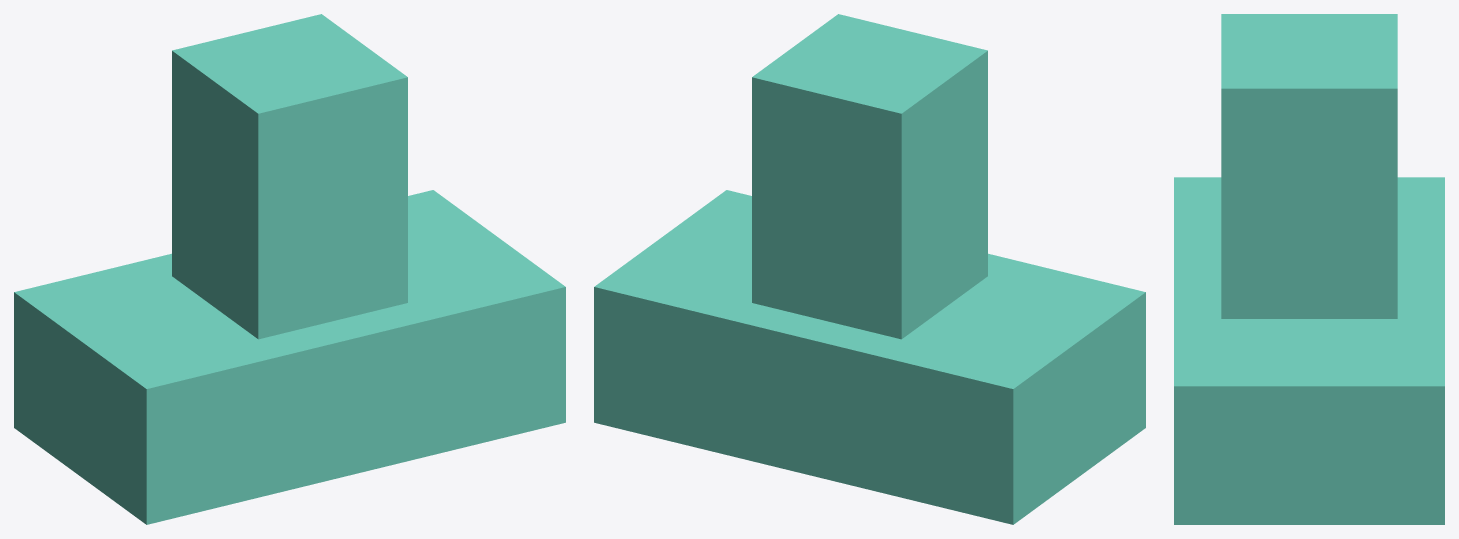
Rendered from congreso.glb.
The picture shows the model from 3 angles, left to right: view 1: azimuth 30°, elevation 25°; view 2: azimuth 150°, elevation 25°; view 3: azimuth 270°, elevation 25°; orthographic projection. The views are drawn at different scales.
Visible parts, largest first — view 1: congreso; view 2: congreso; view 3: congreso.
Part boxes in pixels (left/top/right/bottom): congreso: left=14, top=14, right=565, bottom=524; congreso: left=594, top=14, right=1145, bottom=524; congreso: left=1174, top=14, right=1444, bottom=524.
Size of the model in its own units: 2.1 by 1.73 by 1.15.
